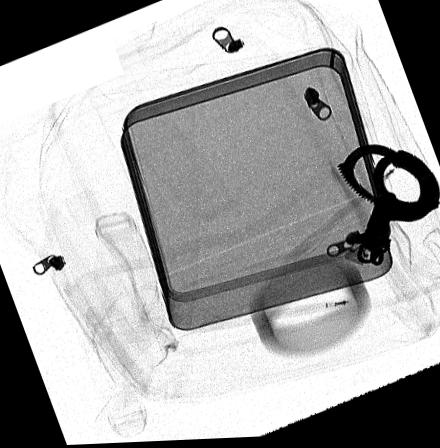HandCuffs: (335, 146, 440, 269)
